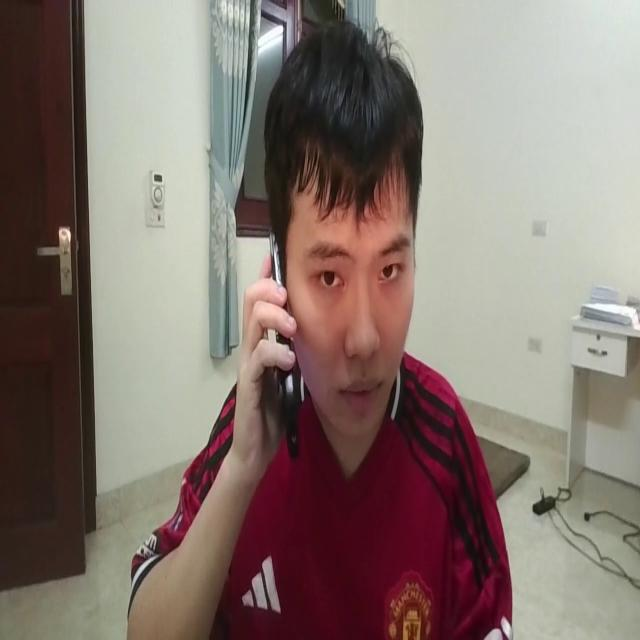phone: (266, 206, 300, 460)
student: (122, 2, 514, 640)
